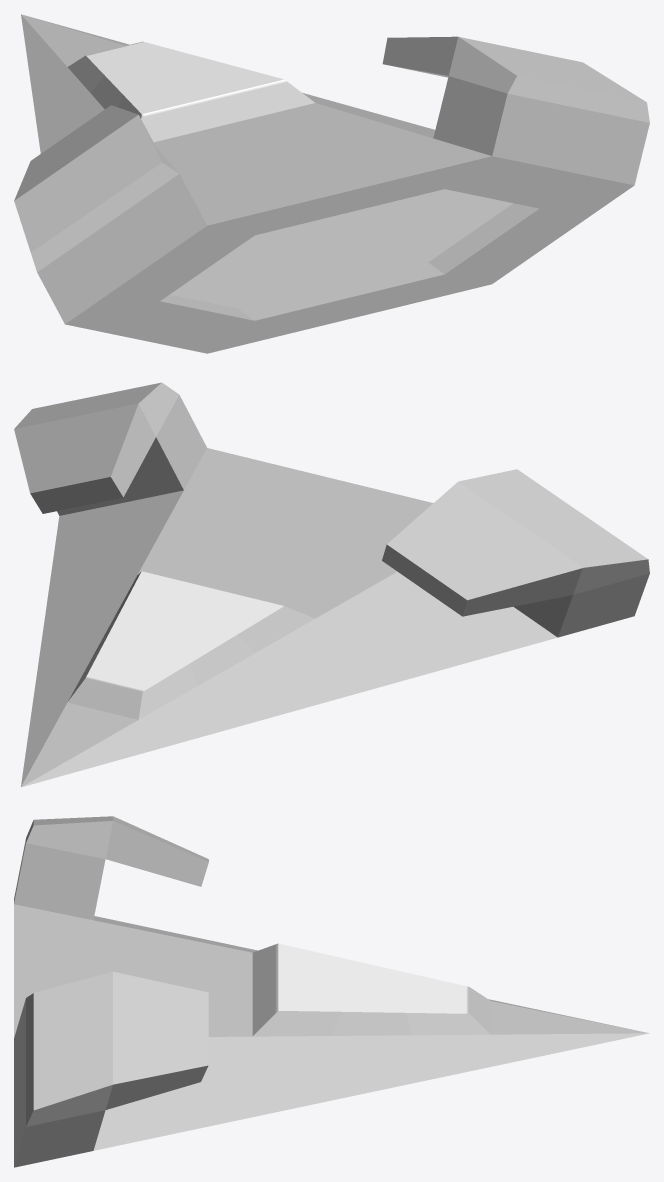
The model's file is ship.fbx.
3 views of the same model, one above another, from view 1: azimuth 30°, elevation 25°; view 2: azimuth 150°, elevation 25°; view 3: azimuth 270°, elevation 25° (orthographic). The views are drawn at different scales.
Visible parts, largest first — view 1: ship; view 2: ship; view 3: ship.
Part boxes in pixels (bbox=[...]): ship: bbox=[14, 14, 649, 353]; ship: bbox=[14, 382, 649, 787]; ship: bbox=[14, 816, 649, 1167].
Size of the model in its own units: 216 by 69.03 by 200.
1 material, 1 textured.
